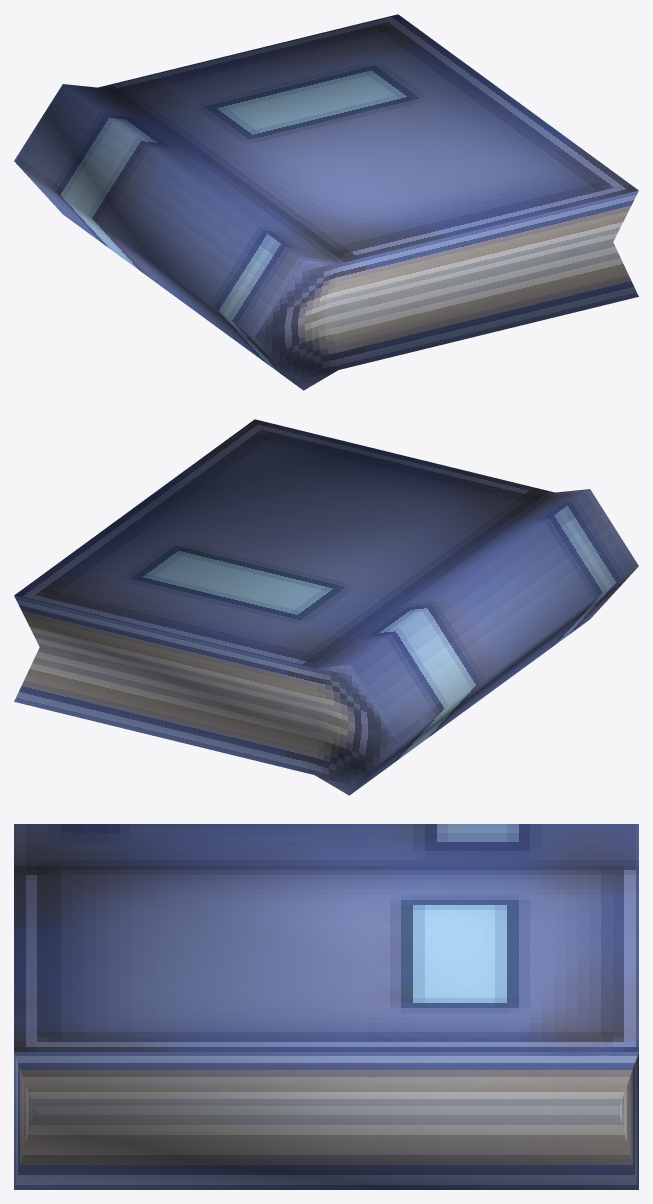
Rendered from a_SWIbooks04_01.glb.
3 views of the same model, one above another, from view 1: azimuth 30°, elevation 25°; view 2: azimuth 150°, elevation 25°; view 3: azimuth 270°, elevation 25° (orthographic). The views are drawn at different scales.
Parts seen in each view (by area): view 1: a_SWIbooks04_01; view 2: a_SWIbooks04_01; view 3: a_SWIbooks04_01.
Boxes of the visible parts, left/top/right/bottom form: a_SWIbooks04_01: left=14, top=14, right=638, bottom=390; a_SWIbooks04_01: left=14, top=419, right=638, bottom=795; a_SWIbooks04_01: left=14, top=824, right=638, bottom=1189.
Size of the model in its own units: 0.3689 by 0.1197 by 0.4006.
1 material, 1 textured.
